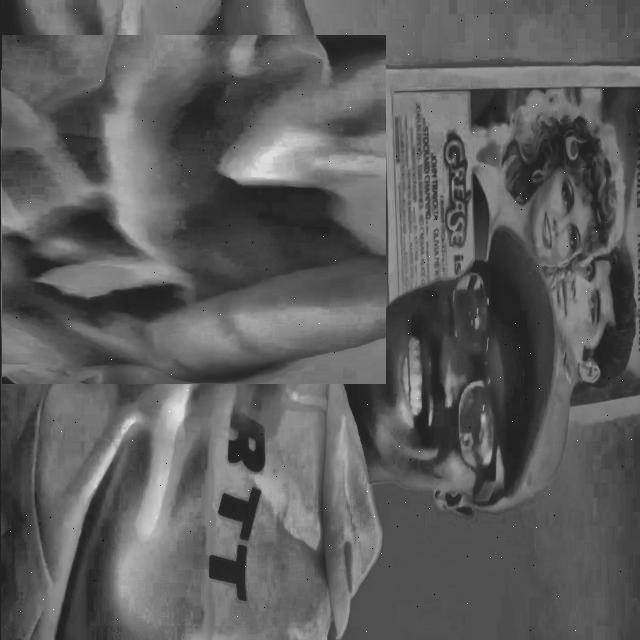not-gloved: (0, 17, 368, 401)
